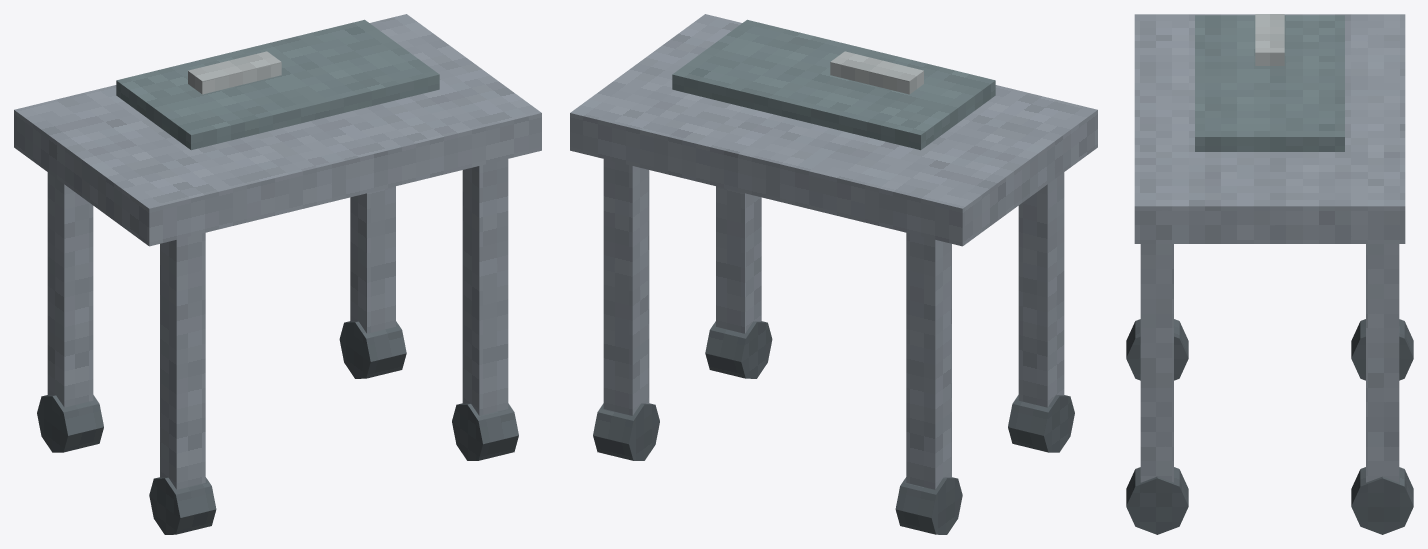
The model's file is level_blockout_mortuary_instrument_trolley.glb.
3 renders of one model, left to right at view 1: azimuth 30°, elevation 25°; view 2: azimuth 150°, elevation 25°; view 3: azimuth 270°, elevation 25°, orthographic.
Parts seen in each view (by area): view 1: level_blockout_mortuary_instrument_trolley; view 2: level_blockout_mortuary_instrument_trolley; view 3: level_blockout_mortuary_instrument_trolley.
Part boxes in pixels (left/top/right/bottom): level_blockout_mortuary_instrument_trolley: left=14, top=14, right=541, bottom=534; level_blockout_mortuary_instrument_trolley: left=570, top=14, right=1097, bottom=534; level_blockout_mortuary_instrument_trolley: left=1126, top=14, right=1413, bottom=534.
Size of the model in its own units: 1.09 by 1.05 by 0.69.
4 materials, 4 textured.
